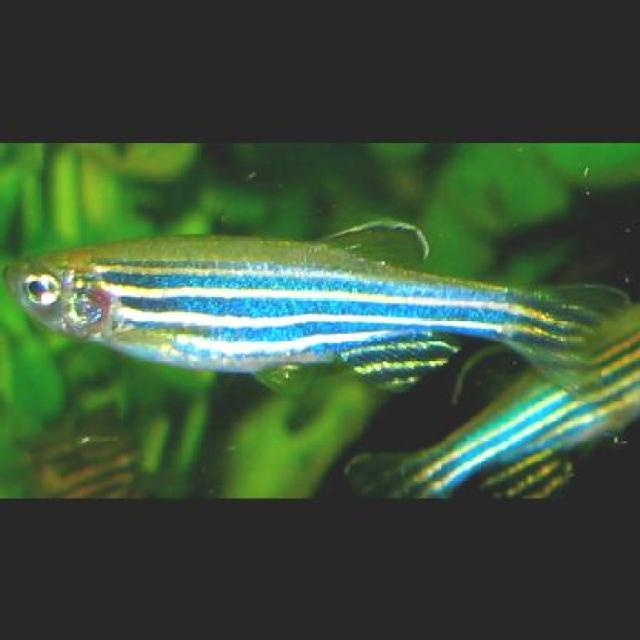ZebraFish: (2, 216, 626, 409)
